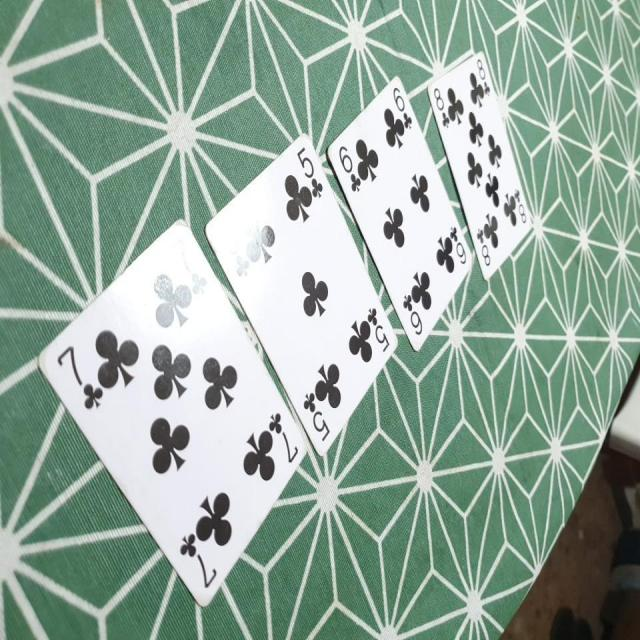5 Trefoils: (202, 129, 400, 454)
6 Trefoils: (324, 73, 476, 353)
7 Trefoils: (36, 216, 309, 607)
8 Trefoils: (427, 49, 533, 282)
